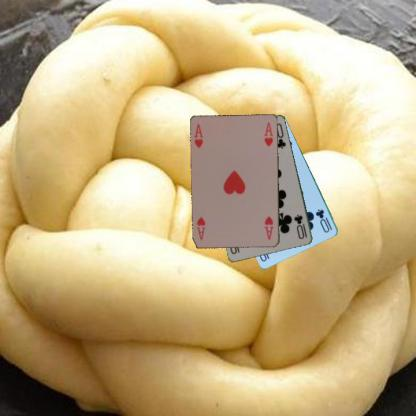10c: (314, 207, 334, 234), (292, 212, 308, 240)
Ah: (262, 214, 275, 241), (192, 121, 204, 149)
